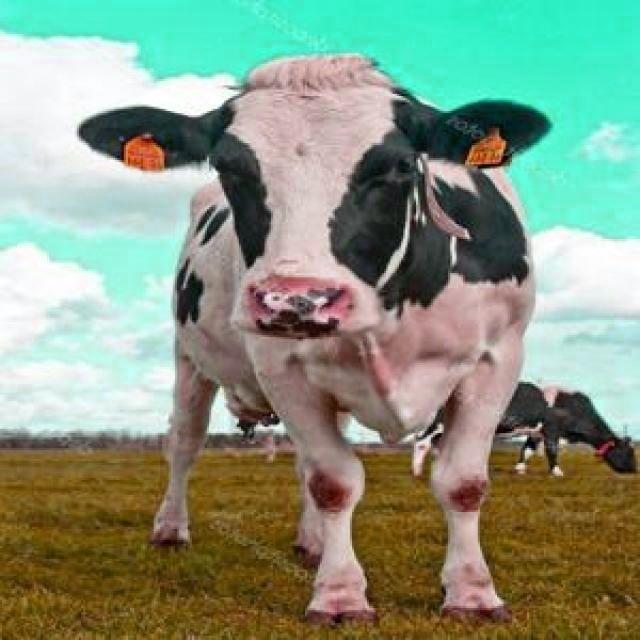cow: (79, 55, 550, 621)
